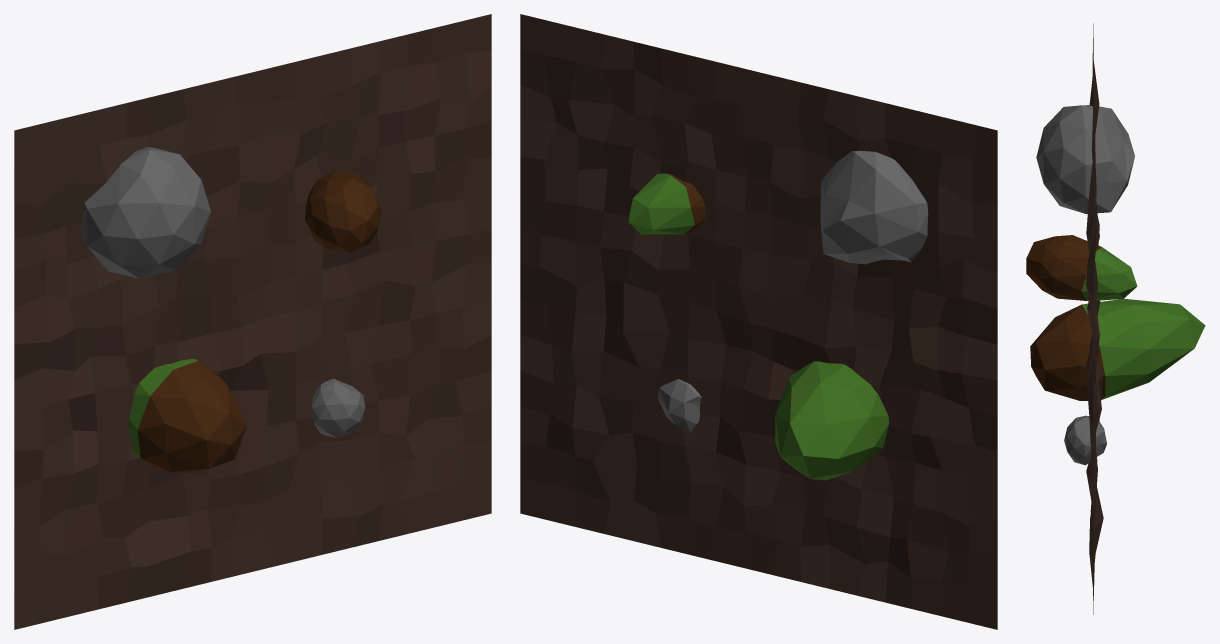
3 renders of one model, left to right at view 1: azimuth 30°, elevation 25°; view 2: azimuth 150°, elevation 25°; view 3: azimuth 270°, elevation 25°, orthographic. The views are drawn at different scales.
Parts seen in each view (by area): view 1: Plan; view 2: Plan; view 3: Plan.
Part boxes in pixels (x1,y1,x2,y2): Plan: [14, 14, 491, 629]; Plan: [520, 14, 997, 629]; Plan: [1026, 23, 1205, 614].
Bounding box in the file's own units: 200 × 200 × 77.27.
1 material, 1 textured.
